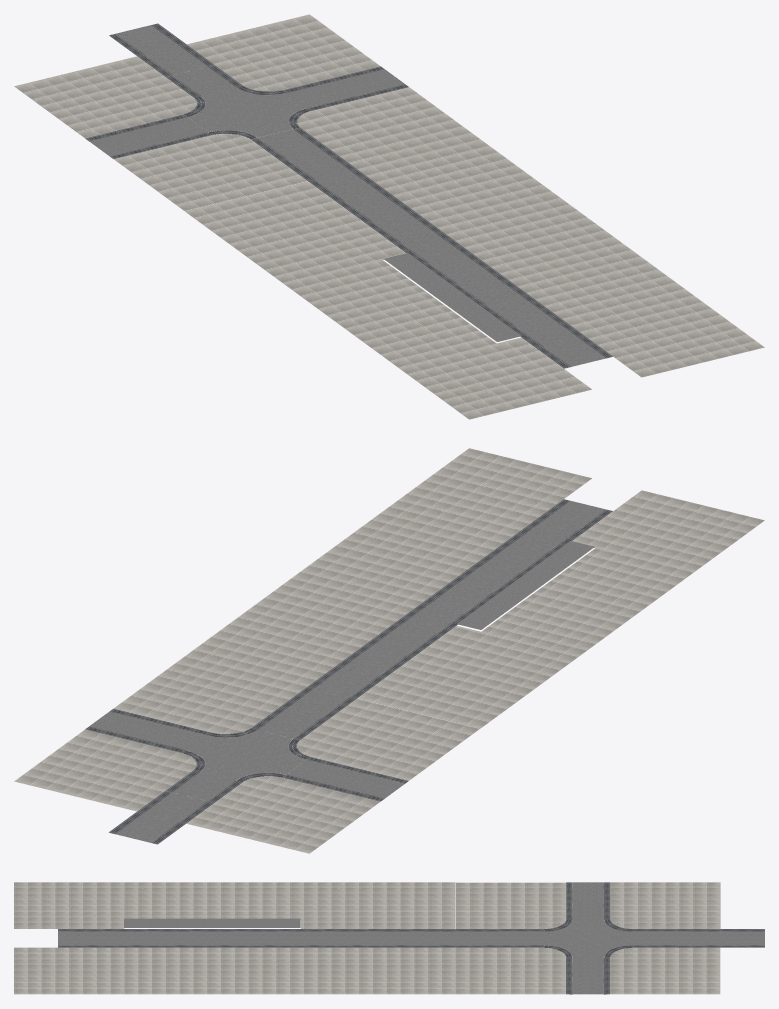
Rendered from CuadraDarsenaIzquierda.glb.
The picture shows the model from 3 angles, top to bottom: view 1: azimuth 30°, elevation 25°; view 2: azimuth 150°, elevation 25°; view 3: azimuth 270°, elevation 25°; orthographic projection. The views are drawn at different scales.
Visible parts, largest first — view 1: Der, Vereda, Der.001, 1.001, Calle, AlcantarillasCurvas, 1; view 2: Der, Vereda, Der.001, 1.001, Calle, AlcantarillasCurvas, 1; view 3: Der, Vereda, Der.001, 1.001, Calle, AlcantarillasCurvas, 1.
Boxes of the visible parts, <box> form: Der: <box>357,139,764,377</box>; Vereda: <box>14,14,479,210</box>; Der.001: <box>185,181,591,419</box>; 1.001: <box>251,127,612,368</box>; Calle: <box>85,23,408,158</box>; AlcantarillasCurvas: <box>184,86,309,139</box>; 1: <box>383,253,521,341</box>; Der: <box>185,448,591,686</box>; Vereda: <box>14,656,479,853</box>; Der.001: <box>357,490,764,728</box>; 1.001: <box>251,499,612,740</box>; Calle: <box>85,708,408,844</box>; AlcantarillasCurvas: <box>183,728,309,781</box>; 1: <box>457,541,594,629</box>; Der: <box>14,947,455,994</box>; Vereda: <box>455,882,720,994</box>; Der.001: <box>14,882,455,928</box>; 1.001: <box>58,929,543,947</box>; Calle: <box>566,882,764,994</box>; AlcantarillasCurvas: <box>544,919,632,957</box>; 1: <box>124,918,300,927</box>.
Size of the model in its own units: 12 by 0.0586 by 34.
11 materials, 11 textured.
